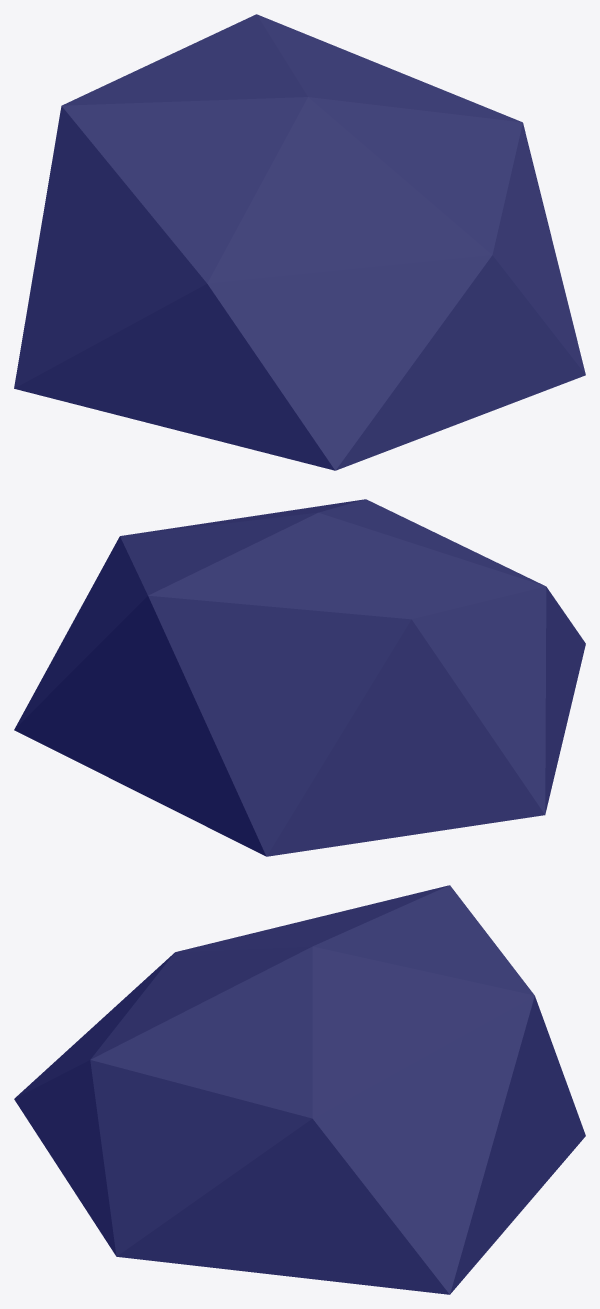
The model's file is SeekerStone1.fbx.
The picture shows the model from 3 angles, top to bottom: view 1: azimuth 30°, elevation 25°; view 2: azimuth 150°, elevation 25°; view 3: azimuth 270°, elevation 25°; orthographic projection. The views are drawn at different scales.
Visible parts, largest first — view 1: GeoSphere001; view 2: GeoSphere001; view 3: GeoSphere001.
Part boxes in pixels (left/top/right/bottom): GeoSphere001: left=14, top=14, right=585, bottom=470; GeoSphere001: left=14, top=499, right=585, bottom=856; GeoSphere001: left=14, top=885, right=585, bottom=1294.
Bounding box in the file's own units: 46.64 × 46.58 × 20.7.
